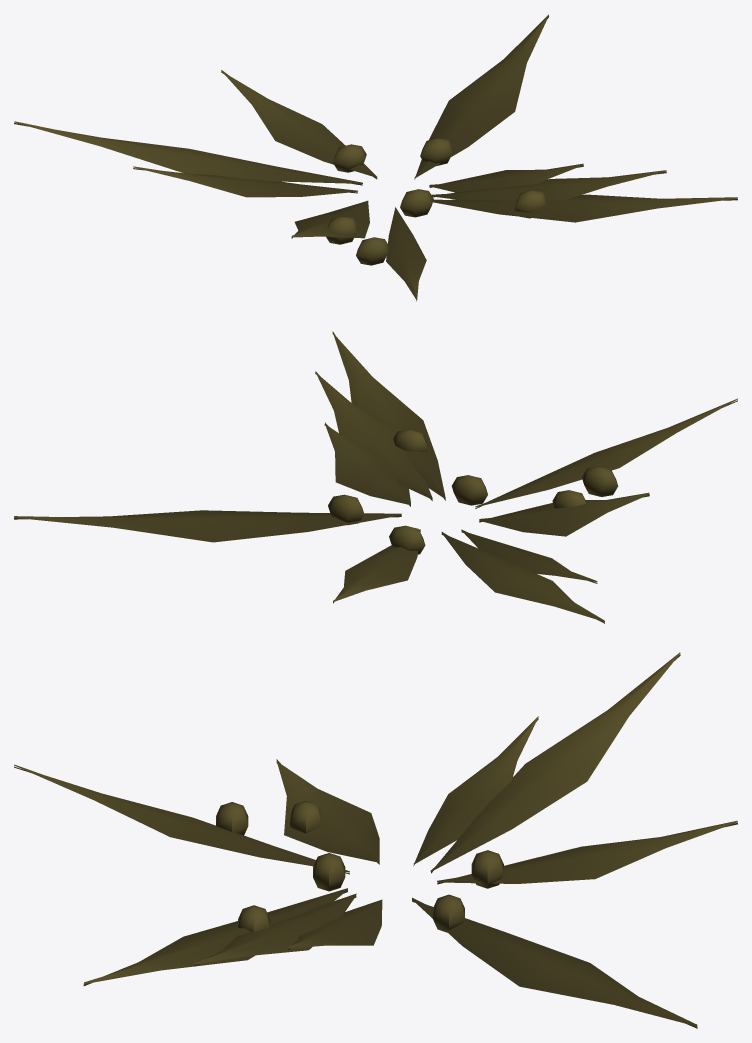
File: wrack.glb
The picture shows the model from 3 angles, top to bottom: view 1: azimuth 30°, elevation 25°; view 2: azimuth 150°, elevation 25°; view 3: azimuth 270°, elevation 25°; orthographic projection. The views are drawn at different scales.
Visible parts, largest first — view 1: causeway_wrack; view 2: causeway_wrack; view 3: causeway_wrack.
Part boxes in pixels (x1,y1,x2,y2): causeway_wrack: (14,14,737,301); causeway_wrack: (14,331,737,623); causeway_wrack: (14,652,737,1028).
Bounding box in the file's own units: 0.5105 × 0.0525 × 0.4666.
